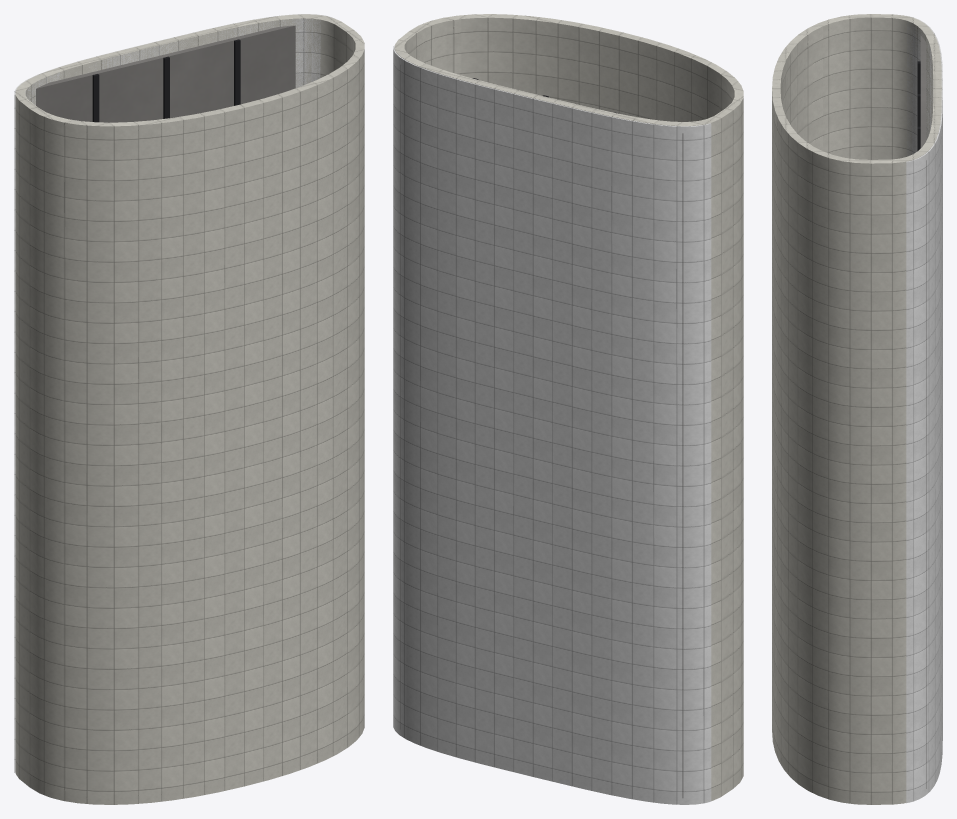
Rendered from aero03_cargo_bay_mk2_500.glb.
3 views of the same model, side by side, from view 1: azimuth 30°, elevation 25°; view 2: azimuth 150°, elevation 25°; view 3: azimuth 270°, elevation 25° (orthographic). The views are drawn at different scales.
Visible parts, largest first — view 1: door_l, door_r, fuselage, cargo_floor, belly_tiles, floor_rails; view 2: belly_tiles, fuselage, door_r, door_l, cargo_floor; view 3: fuselage, door_r, belly_tiles, door_l, cargo_floor, floor_rails.
Boxes of the visible parts, x1=… form: door_l: x1=57, y1=121, x2=244, y2=791; door_r: x1=244, y1=63, x2=364, y2=772; fuselage: x1=15, y1=14, x2=364, y2=804; cargo_floor: x1=36, y1=25, x2=295, y2=122; belly_tiles: x1=14, y1=14, x2=331, y2=772; floor_rails: x1=92, y1=39, x2=240, y2=122; belly_tiles: x1=393, y1=46, x2=711, y2=804; fuselage: x1=394, y1=14, x2=743, y2=800; door_r: x1=445, y1=31, x2=618, y2=113; door_l: x1=619, y1=49, x2=732, y2=121; cargo_floor: x1=400, y1=65, x2=683, y2=797; fuselage: x1=772, y1=14, x2=941, y2=804; door_r: x1=772, y1=104, x2=835, y2=788; belly_tiles: x1=906, y1=15, x2=942, y2=803; door_l: x1=781, y1=35, x2=835, y2=155; cargo_floor: x1=920, y1=36, x2=926, y2=788; floor_rails: x1=917, y1=61, x2=920, y2=150.
Size of the model in its own units: 2.5 by 5 by 1.21.
Materials: 4 (3 with a texture image).
